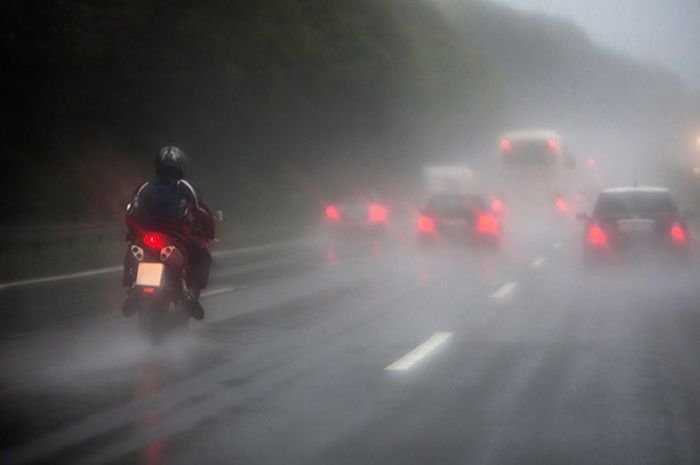motor: (122, 220, 205, 336)
